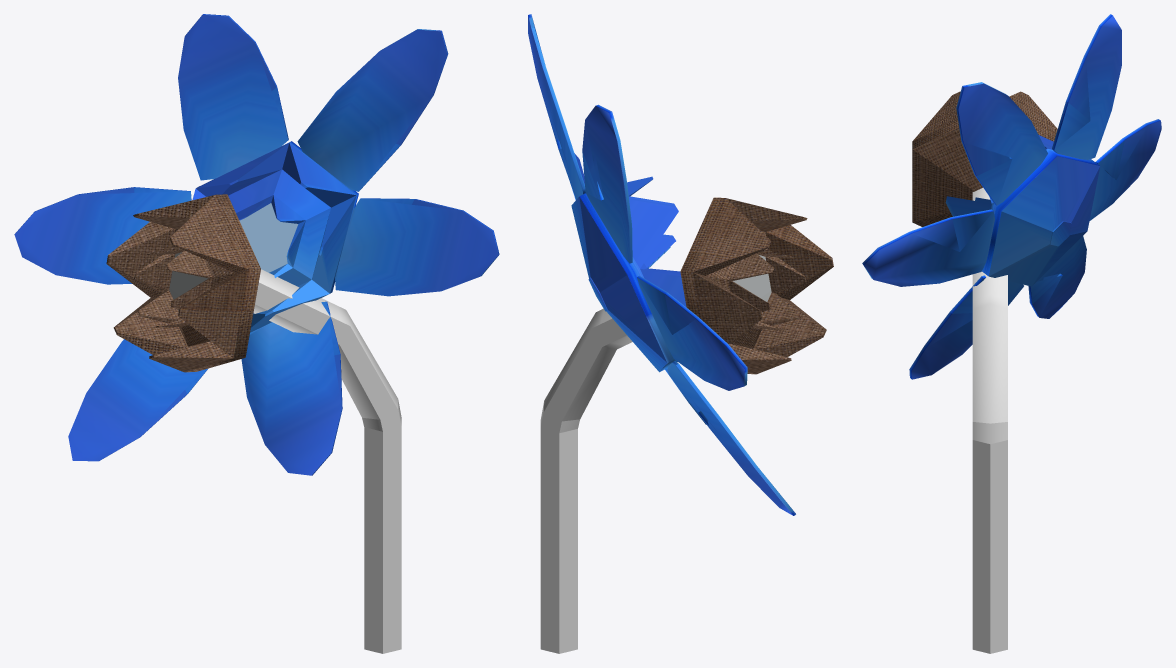
Rendered from gentian.fbx.
3 renders of one model, left to right at view 1: azimuth 30°, elevation 25°; view 2: azimuth 150°, elevation 25°; view 3: azimuth 270°, elevation 25°, orthographic. The views are drawn at different scales.
Visible parts, largest first — view 1: Petals, OvaleDead, Stem, UpperStem; view 2: Petals, OvaleDead, Stem, UpperStem; view 3: Petals, Stem, OvaleDead, UpperStem.
Part boxes in pixels (x1=…): Petals: x1=14, y1=14, x2=499, y2=475; OvaleDead: x1=106, y1=194, x2=260, y2=372; Stem: x1=362, y1=400, x2=401, y2=653; UpperStem: x1=253, y1=269, x2=398, y2=419; Petals: x1=528, y1=14, x2=795, y2=515; OvaleDead: x1=680, y1=197, x2=833, y2=374; Stem: x1=540, y1=401, x2=579, y2=653; UpperStem: x1=544, y1=308, x2=632, y2=421; Petals: x1=862, y1=14, x2=1161, y2=379; Stem: x1=972, y1=422, x2=1007, y2=653; OvaleDead: x1=912, y1=91, x2=1057, y2=226; UpperStem: x1=972, y1=188, x2=1007, y2=423.
Size of the model in its own units: 17.67 by 31.29 by 14.66.
Materials: 4 (4 with a texture image).
